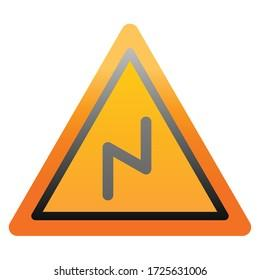Right Reverse Bend: (1, 26, 255, 241)
